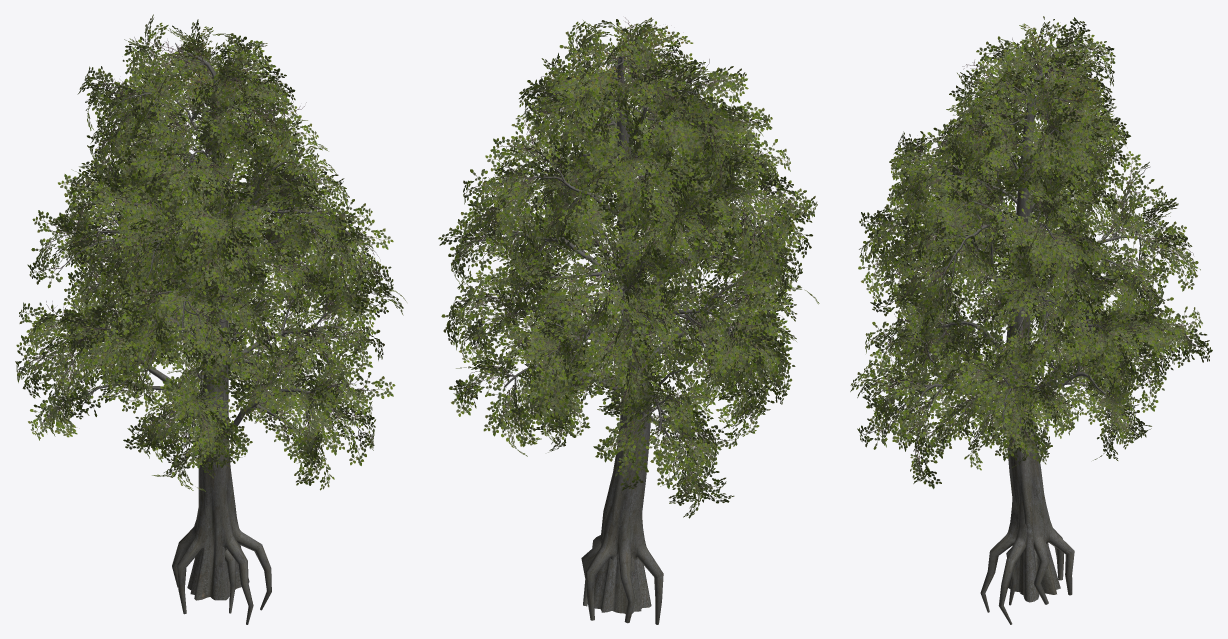
File: tree.glb
3 views of the same model, side by side, from view 1: azimuth 30°, elevation 25°; view 2: azimuth 150°, elevation 25°; view 3: azimuth 270°, elevation 25° (orthographic). The views are drawn at different scales.
Visible parts, largest first — view 1: Linden_LOD0; view 2: Linden_LOD0; view 3: Linden_LOD0.
Part boxes in pixels (x1,y1,x2,y2): Linden_LOD0: (15,14,406,624); Linden_LOD0: (438,17,819,624); Linden_LOD0: (850,16,1212,624).
Size of the model in its own units: 10.12 by 18.04 by 10.4.
Materials: 2 (2 with a texture image).
